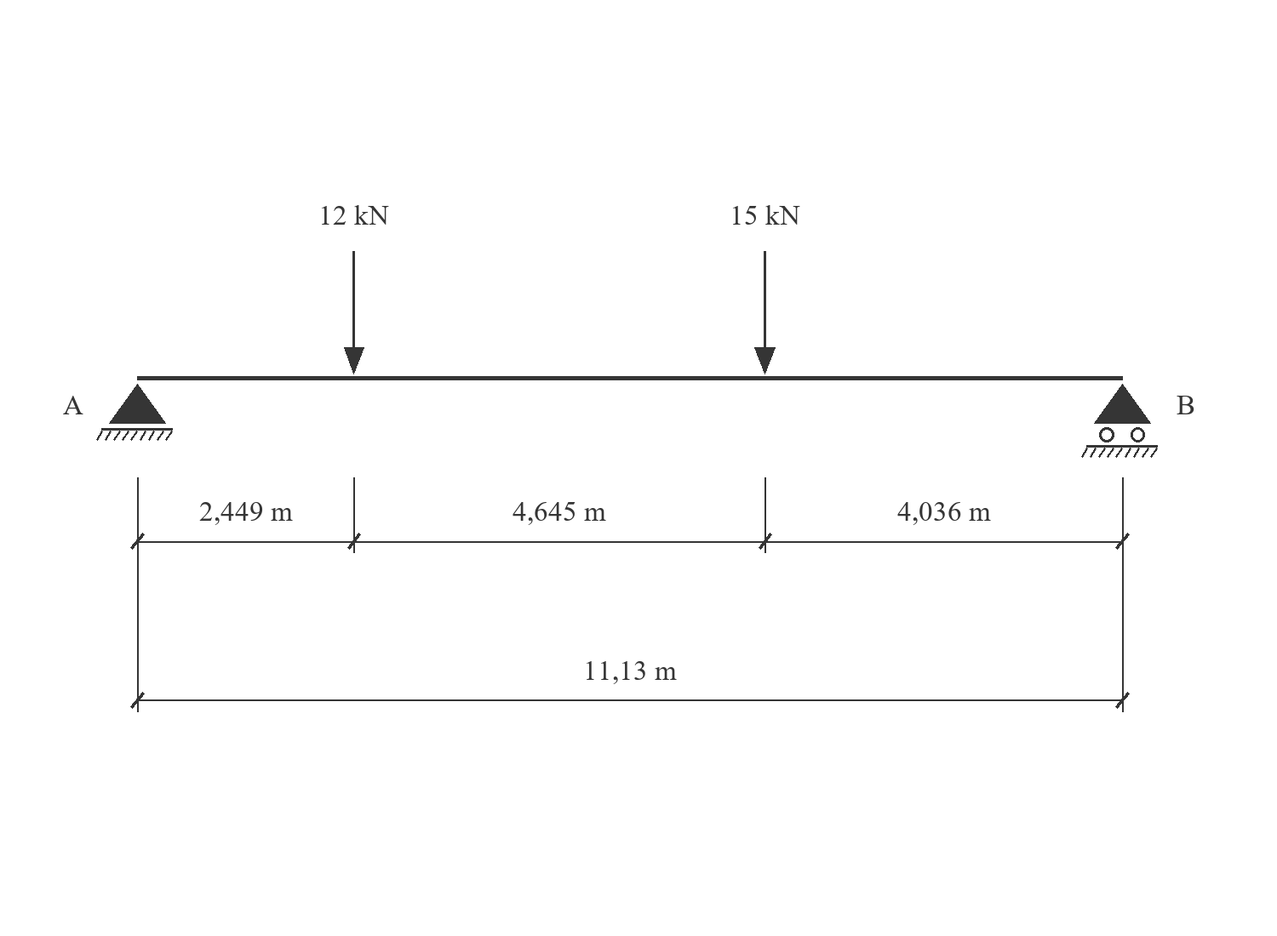pin_support: (96, 384, 173, 441)
point_load: (754, 251, 776, 374), (344, 251, 364, 374)
roller_support: (1081, 384, 1158, 458)
